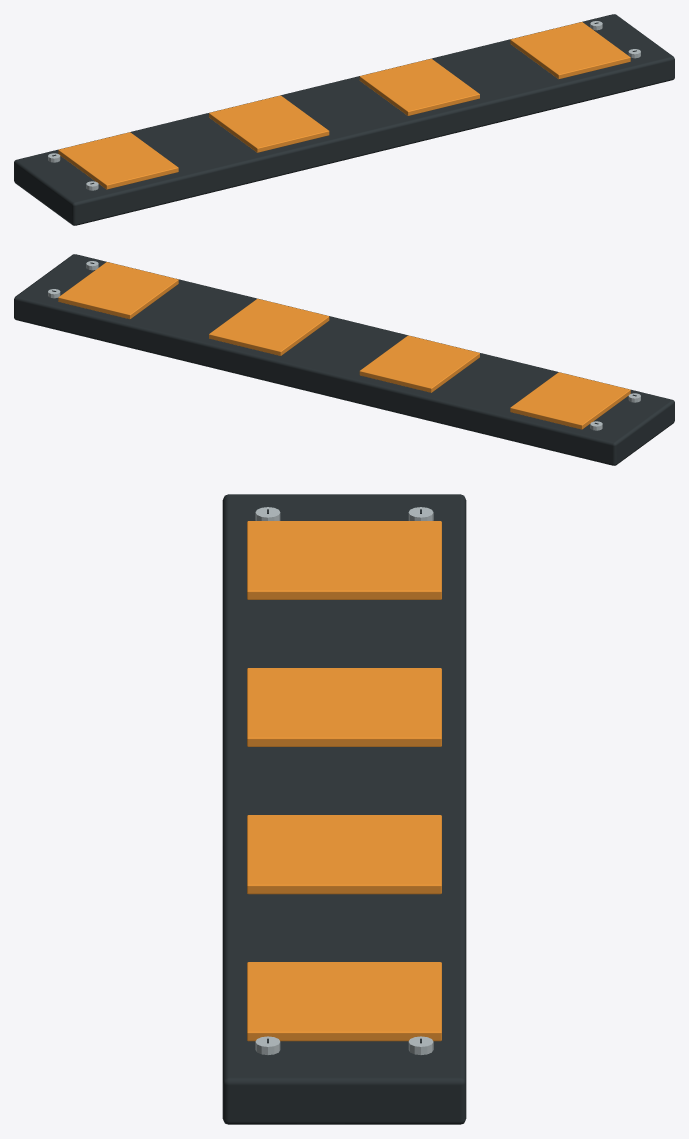
Rendered from container-inspection-and-customs-yard-container-inspec-7e13f41b__29310.glb.
3 views of the same model, one above another, from view 1: azimuth 30°, elevation 25°; view 2: azimuth 150°, elevation 25°; view 3: azimuth 270°, elevation 25° (orthographic). The views are drawn at different scales.
Parts seen in each view (by area): view 1: container-inspection-and-customs-yard-speed-bump; view 2: container-inspection-and-customs-yard-speed-bump; view 3: container-inspection-and-customs-yard-speed-bump.
Part boxes in pixels (x1,y1,x2,y2): container-inspection-and-customs-yard-speed-bump: (14, 14, 674, 225); container-inspection-and-customs-yard-speed-bump: (14, 254, 674, 465); container-inspection-and-customs-yard-speed-bump: (222, 494, 466, 1124).
Size of the model in its own units: 2 by 0.0911 by 0.3499.
